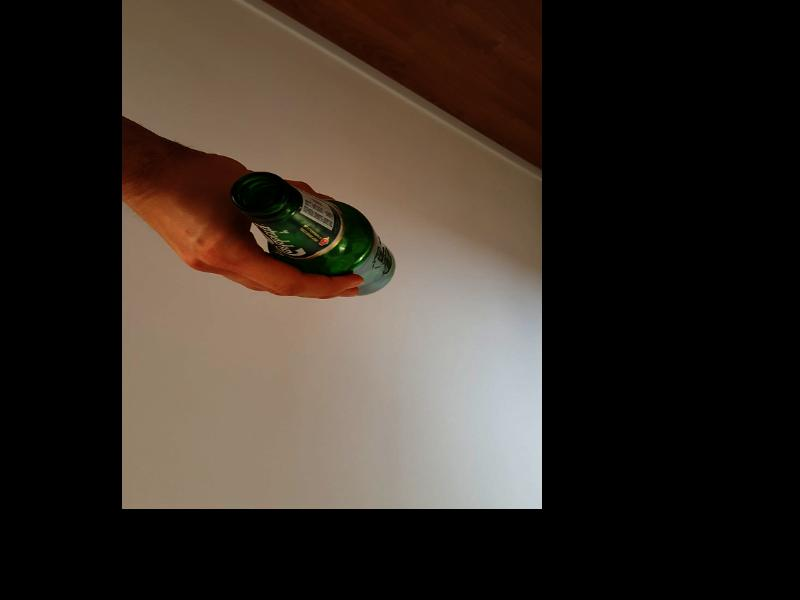Beer: (229, 168, 395, 294)
